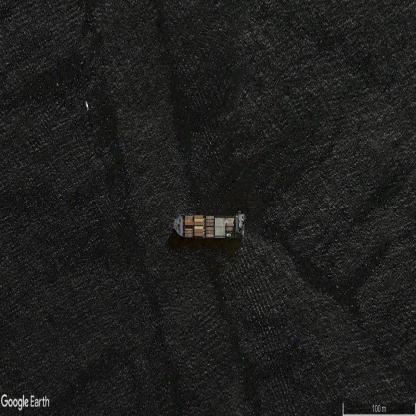ship: (174, 212, 246, 239)
